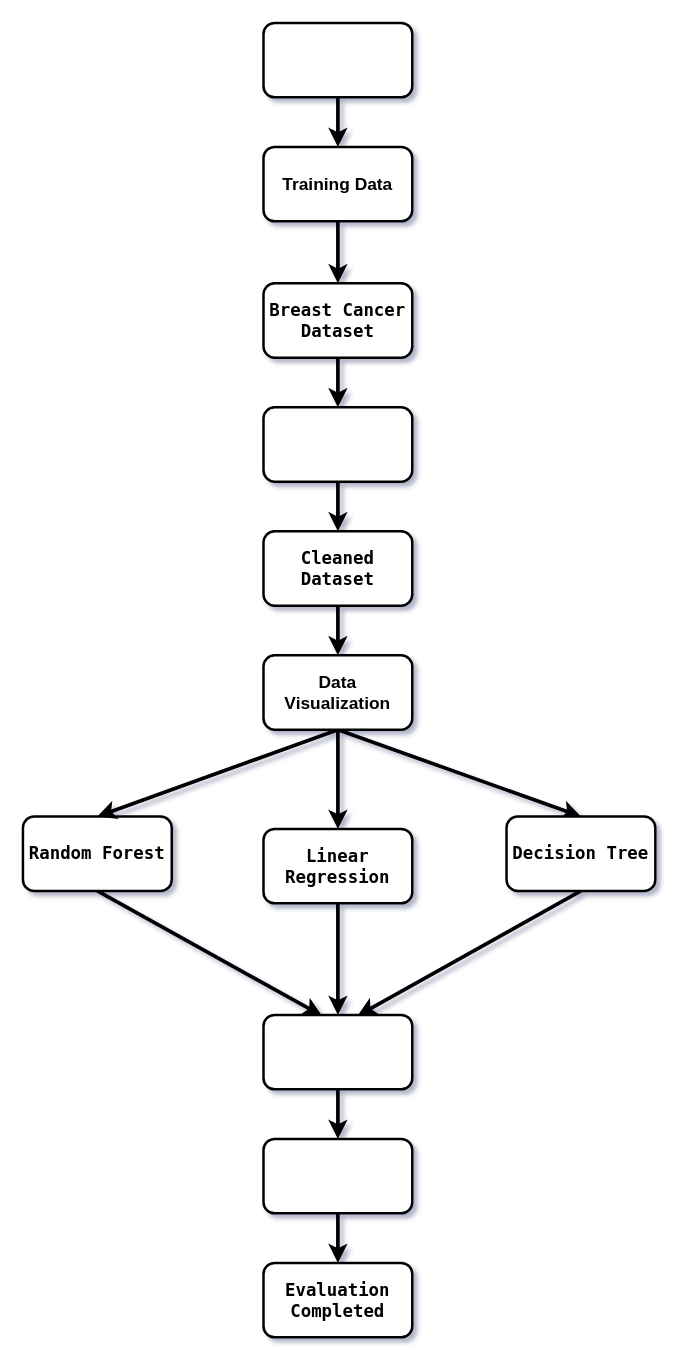
Image size: 684x1366. Some labels were removed from this diagram. The shapes that lost their labels are listed below. From the top down, each one's centre as x and y in pixels, then its label:
At (x=337, y=59): "Input".
At (x=337, y=443): "Pre-process Data".
At (x=337, y=1051): "Analyze The Output.".
At (x=337, y=1175): "Choose the best prediction".
